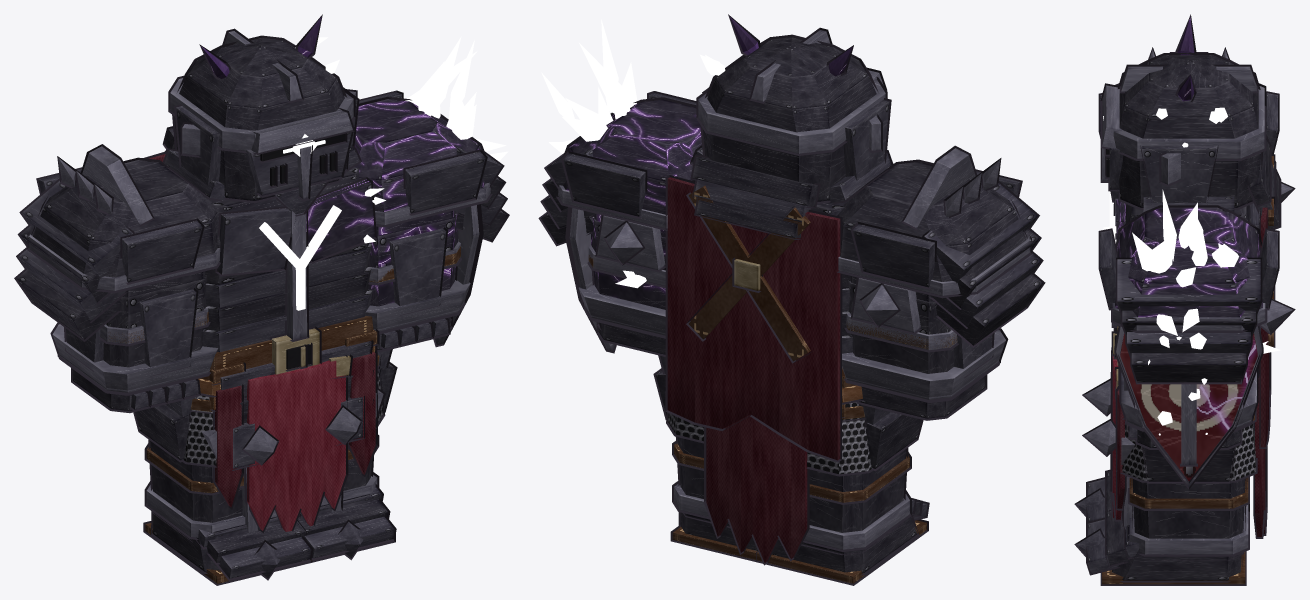
File: KnightMid.fbx
The picture shows the model from 3 angles, left to right: view 1: azimuth 30°, elevation 25°; view 2: azimuth 150°, elevation 25°; view 3: azimuth 270°, elevation 25°; orthographic projection. The views are drawn at different scales.
Parts seen in each view (by area): view 1: LowerTorso_Armor, RightUpperArm_Armor, Head_Armor, UpperTorso_Armor, LeftUpperArm_Armor, RightFoot_Armor, RightLowerArm_Armor, RightLowerLeg_Armor, LeftLowerArm_Armor, RightHand_Armor, LeftFoot_Armor, Head_ArmorOutline (+17 smaller); view 2: UpperTorso_Armor, Head_Armor, RightUpperArm_Armor, LowerTorso_Armor, LeftUpperArm_Armor, RightLowerArm_Armor, RightHand_Armor, RightFoot_Armor, RightLowerLeg_Armor, LeftLowerArm_Armor, LeftUpperArm_Glow, RightUpperArm_ArmorOutline (+12 smaller); view 3: Head_Armor, LeftUpperArm_Armor, LeftFoot_Armor, LeftLowerArm_Shield, LeftLowerLeg_Armor, LowerTorso_Armor, LeftUpperArm_Glow, Head_ArmorOutline, UpperTorso_Armor, LeftUpperArm_ArmorOutline, LowerTorso_ArmorOutline, LeftFoot_ArmorOutline (+13 smaller).
Boxes of the visible parts, x1,y1,x2,y2 form: LowerTorso_Armor: (135,316,395,531); RightUpperArm_Armor: (16,146,220,344); Head_Armor: (165,17,357,214); UpperTorso_Armor: (149,146,374,352); LeftUpperArm_Armor: (354,92,507,283); RightFoot_Armor: (145,485,311,583); RightLowerArm_Armor: (59,275,210,391); RightLowerLeg_Armor: (146,422,277,532); LeftLowerArm_Armor: (368,214,464,330); RightHand_Armor: (52,324,218,410); LeftFoot_Armor: (296,474,394,560); Head_ArmorOutline: (162,14,359,216); UpperTorso_Armor: (667,147,891,460); Head_Armor: (692,16,889,238); RightUpperArm_Armor: (837,148,1042,350); LowerTorso_Armor: (655,356,921,562); LeftUpperArm_Armor: (541,92,701,285); RightLowerArm_Armor: (845,278,998,398); RightHand_Armor: (842,330,1005,418); RightFoot_Armor: (758,494,927,583); RightLowerLeg_Armor: (802,449,909,552); LeftLowerArm_Armor: (585,215,665,334); LeftUpperArm_Glow: (541,19,637,153); RightUpperArm_ArmorOutline: (837,145,1045,352); Head_Armor: (1102,16,1279,229); LeftUpperArm_Armor: (1100,207,1277,382); LeftFoot_Armor: (1077,505,1248,584); LeftLowerArm_Shield: (1116,326,1261,486); LeftLowerLeg_Armor: (1084,421,1248,538); LowerTorso_Armor: (1112,326,1265,536); LeftUpperArm_Glow: (1132,189,1238,349); Head_ArmorOutline: (1100,14,1281,229); UpperTorso_Armor: (1113,156,1273,447); LeftUpperArm_ArmorOutline: (1098,205,1279,384); LowerTorso_ArmorOutline: (1110,328,1267,538); LeftFoot_ArmorOutline: (1074,504,1249,585).
Size of the model in its own units: 553 by 581 by 232.
Materials: 5 (3 with a texture image).
